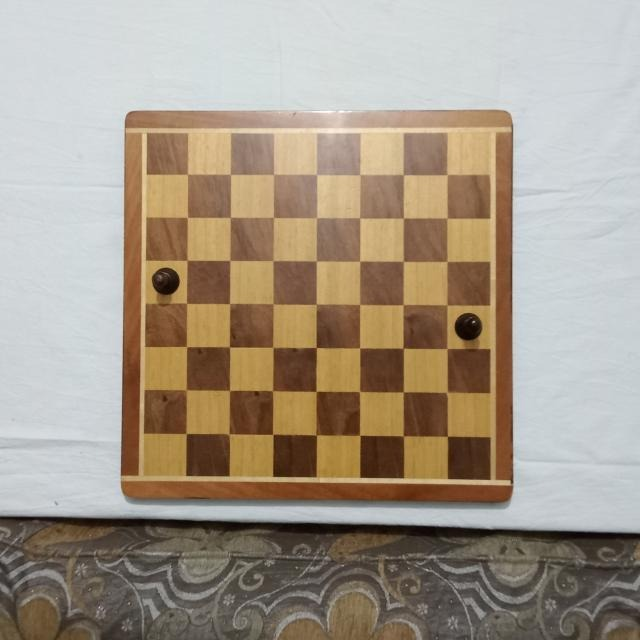black-pawn: (454, 312, 485, 342), (150, 266, 181, 294)
